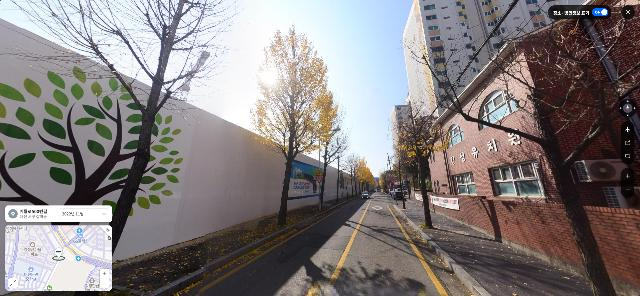ginkgo: (249, 23, 339, 226), (390, 97, 436, 229), (357, 157, 376, 189)
other: (402, 0, 639, 296), (2, 0, 241, 292), (321, 105, 346, 210), (385, 135, 408, 210), (335, 137, 355, 204), (348, 150, 360, 198)
